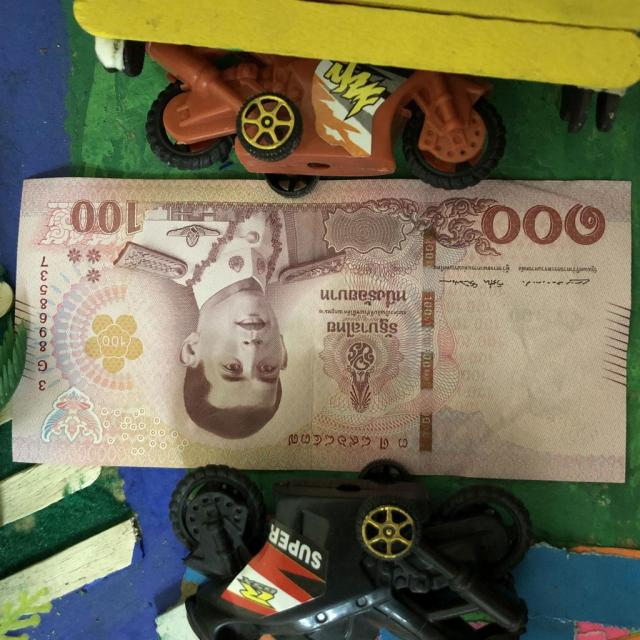THAI100: (10, 178, 631, 482)
